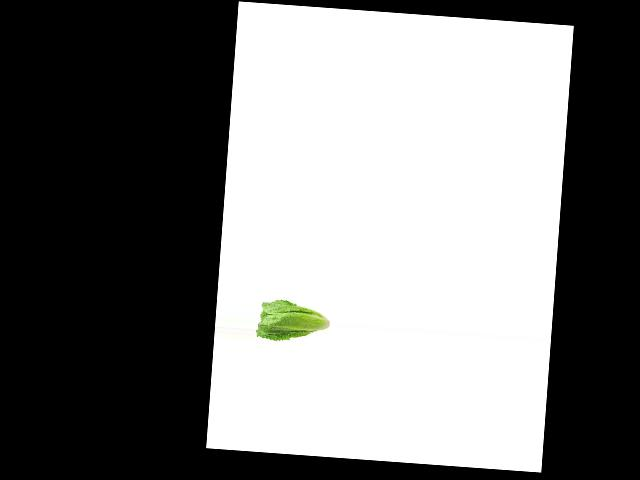lettuce: (255, 292, 330, 346)
